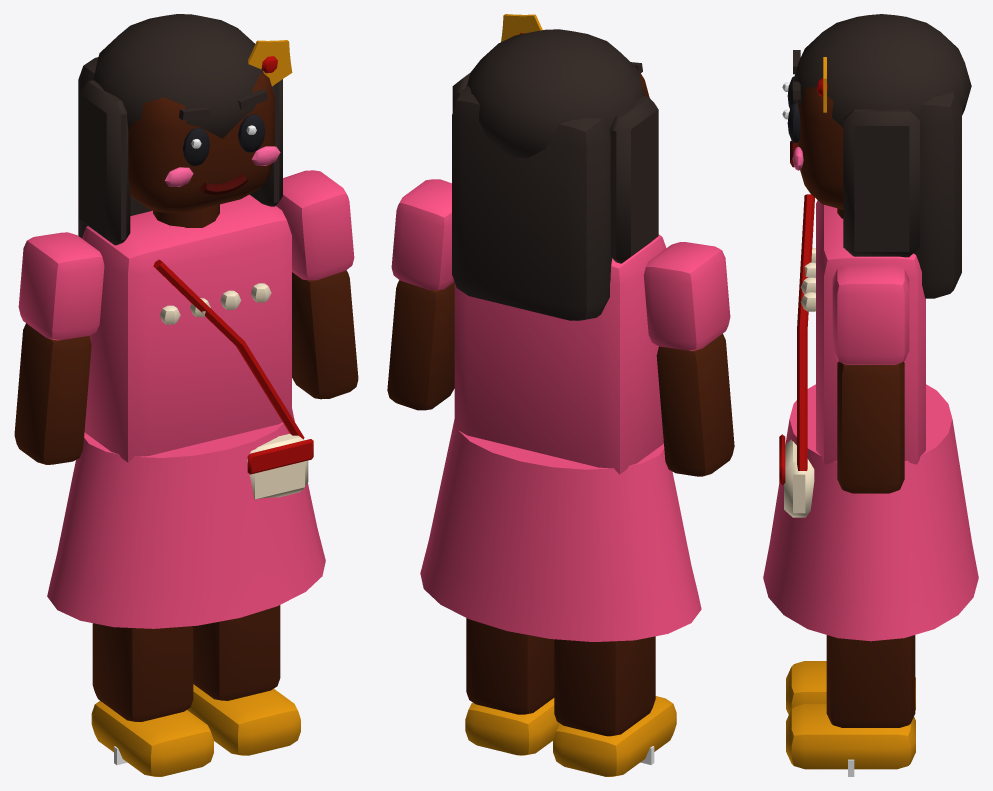
The model's file is CustomerB.fbx.
3 renders of one model, left to right at view 1: azimuth 30°, elevation 25°; view 2: azimuth 150°, elevation 25°; view 3: azimuth 270°, elevation 25°, orthographic.
Parts seen in each view (by area): view 1: CustomerB; view 2: CustomerB; view 3: CustomerB.
Part boxes in pixels (box(x1,y1,x2,y2)): CustomerB: box(14, 14, 358, 776); CustomerB: box(387, 14, 734, 776); CustomerB: box(763, 14, 978, 776).
Bounding box in the file's own units: 2.45 × 5.15 × 1.41.
